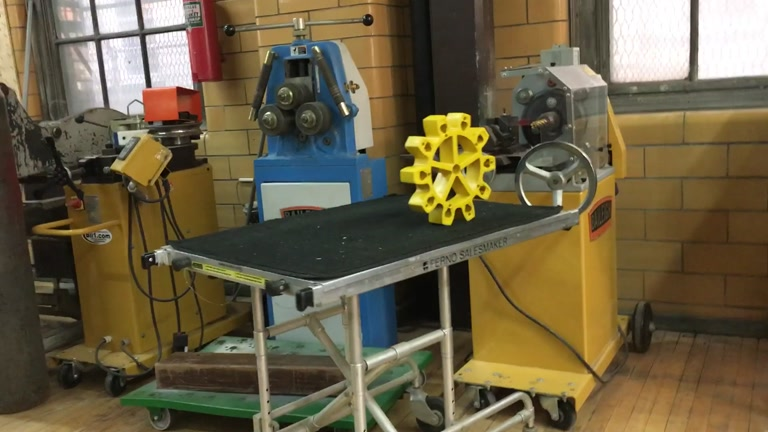gear: (398, 110, 495, 226)
